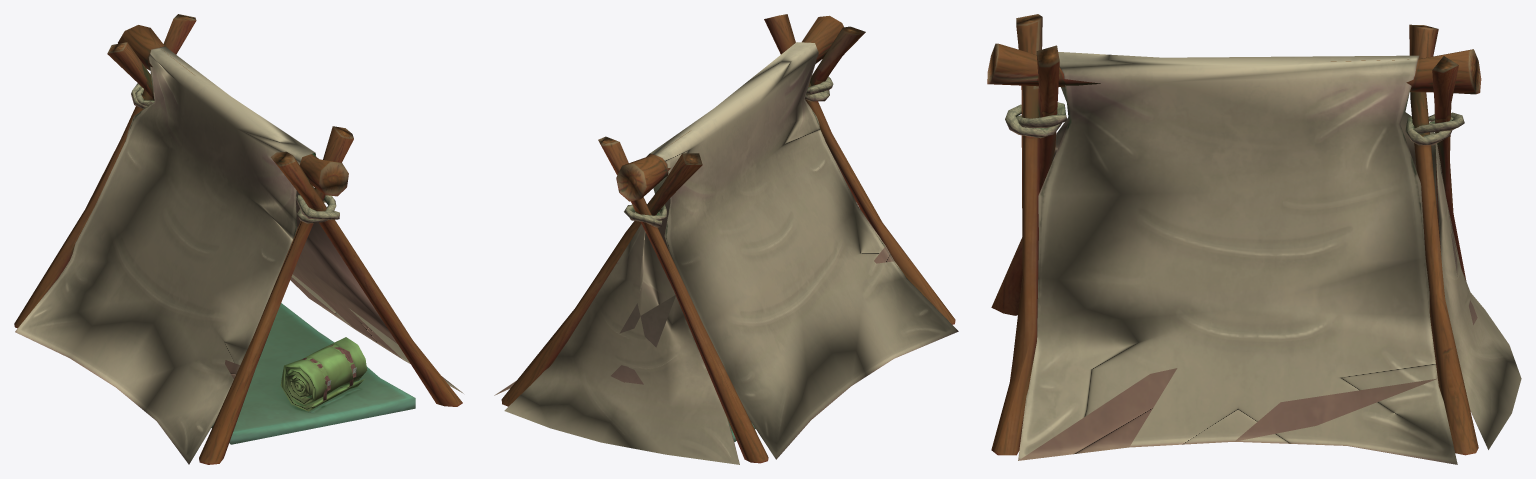
The model's file is styl_tent_LOD2.fbx.
The picture shows the model from 3 angles, left to right: view 1: azimuth 30°, elevation 25°; view 2: azimuth 150°, elevation 25°; view 3: azimuth 270°, elevation 25°; orthographic projection. The views are drawn at different scales.
Visible parts, largest first — view 1: tent; view 2: tent; view 3: tent.
Part boxes in pixels (x1=…): tent: x1=14, y1=14, x2=463, y2=464; tent: x1=494, y1=14, x2=958, y2=464; tent: x1=987, y1=14, x2=1521, y2=464.
Bounding box in the file's own units: 183 × 179 × 248.
